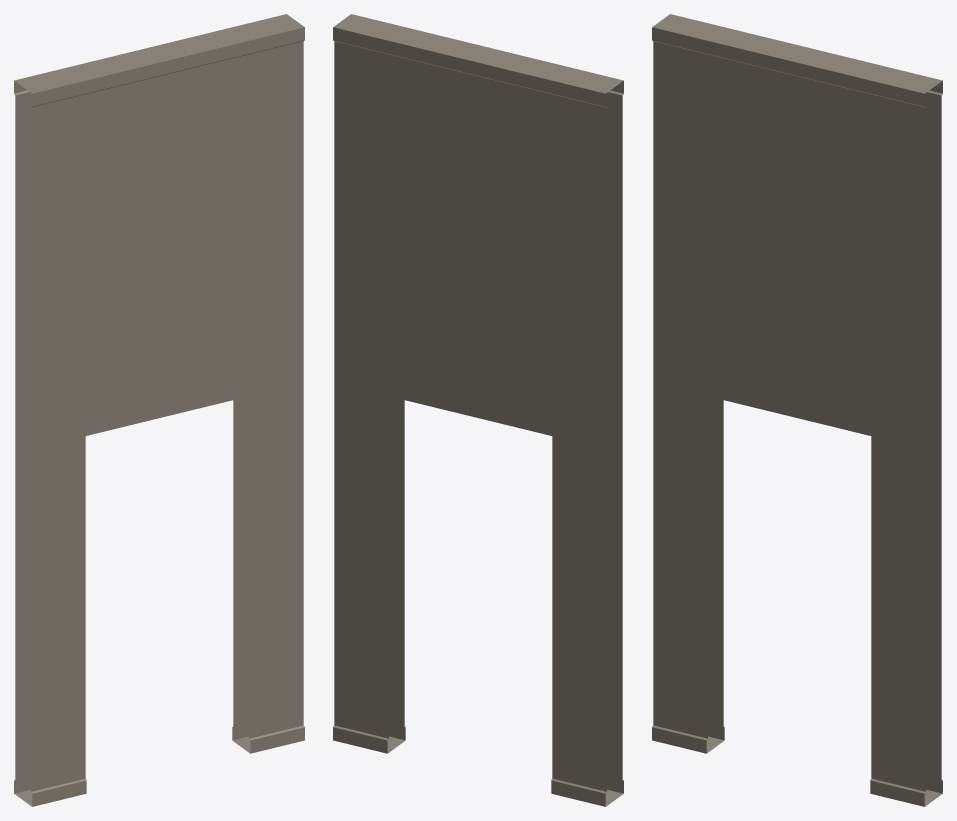
The model's file is Wall_2x5_SingleDoor.fbx.
3 views of the same model, side by side, from view 1: azimuth 30°, elevation 25°; view 2: azimuth 150°, elevation 25°; view 3: azimuth 330°, elevation 25° (orthographic).
Parts seen in each view (by area): view 1: Wall_2x5_SingleDoor; view 2: Wall_2x5_SingleDoor; view 3: Wall_2x5_SingleDoor.
Part boxes in pixels (x1,y1,x2,y2): Wall_2x5_SingleDoor: (14,14,304,806); Wall_2x5_SingleDoor: (333,14,623,806); Wall_2x5_SingleDoor: (652,14,942,806).
Bounding box in the file's own units: 2 × 5 × 0.23.
